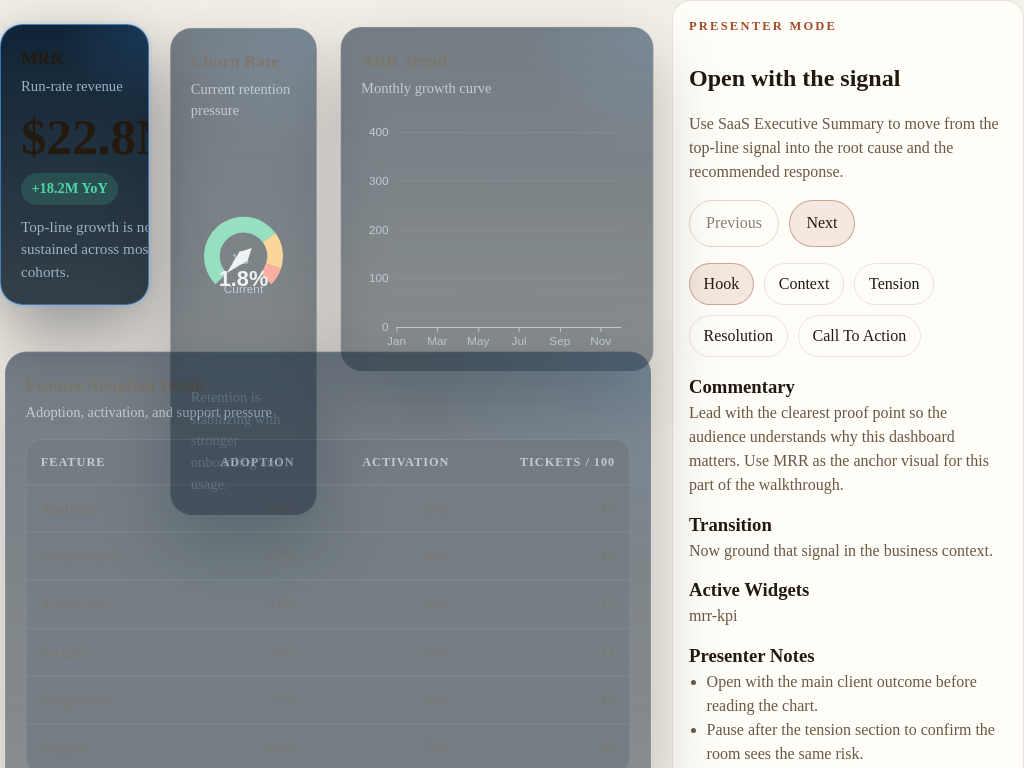
Test case: PresenterMode › steps through sections and emphasizes the active widgets
Expected: the heading "Open with the signal" is shown, [689,65,900,91]
Click the button "Next".
click(822, 223)  # box [789,200,854,246]
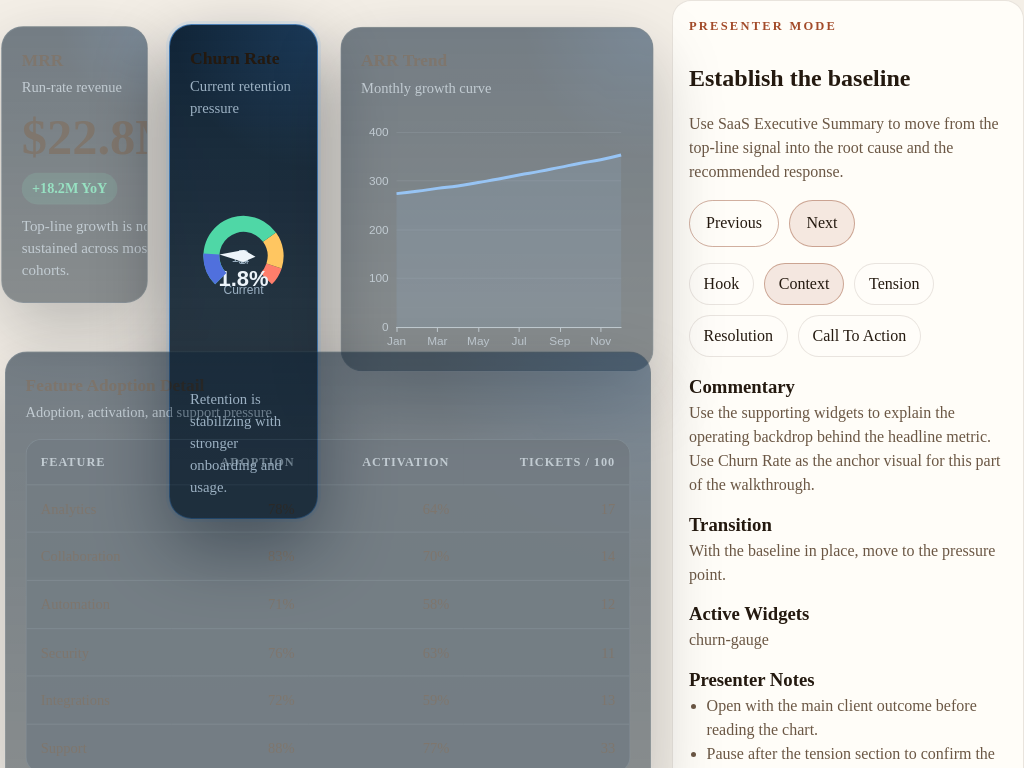
Expected: the heading "Establish the baseline" is shown, [689,65,910,91]
